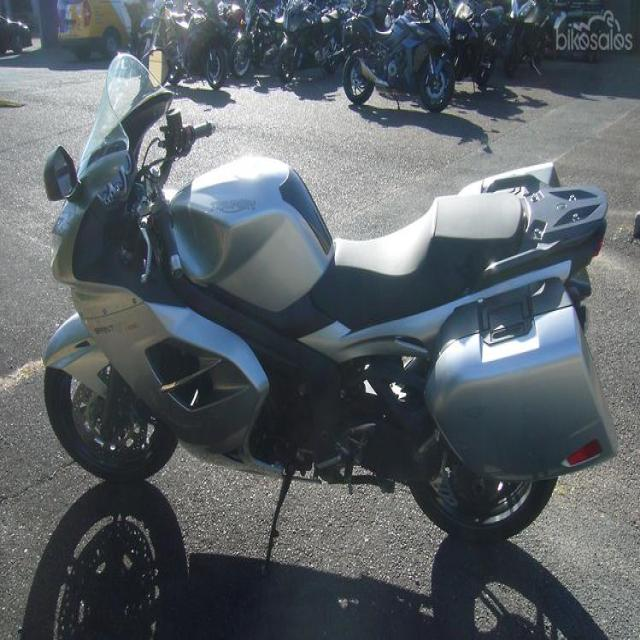Motorcycle: (44, 55, 617, 542), (343, 0, 456, 111)
